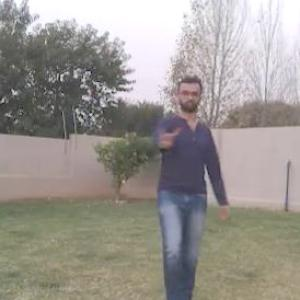takeoff-hand: (151, 118, 180, 156)
